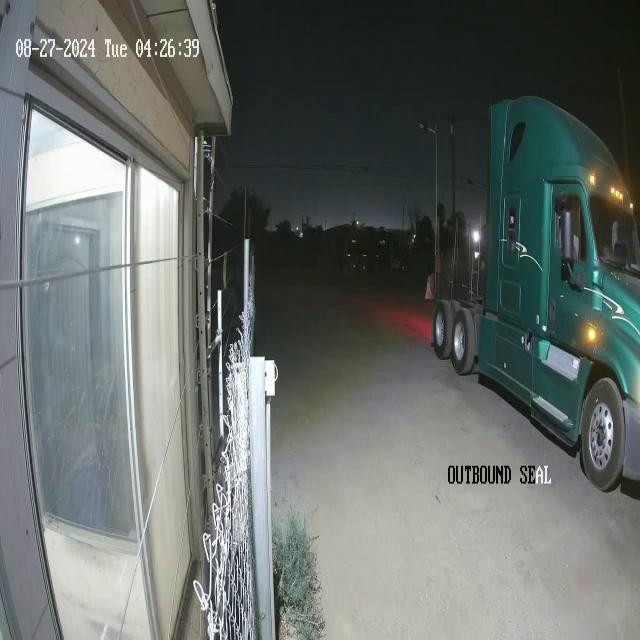BOBTAIL: (430, 94, 639, 492)
